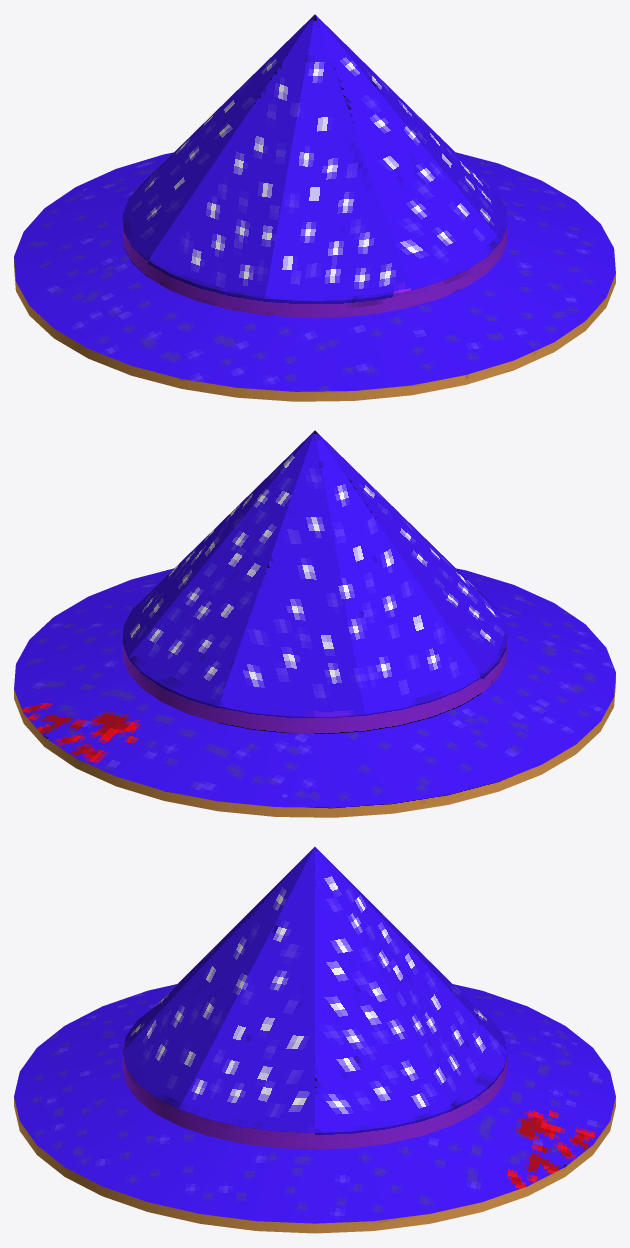
File: WizHat.glb
The picture shows the model from 3 angles, top to bottom: view 1: azimuth 30°, elevation 25°; view 2: azimuth 150°, elevation 25°; view 3: azimuth 270°, elevation 25°; orthographic projection.
Parts seen in each view (by area): view 1: WizHat-col; view 2: WizHat-col; view 3: WizHat-col.
Boxes of the visible parts, bbox=[...] form: WizHat-col: bbox=[14, 14, 615, 401]; WizHat-col: bbox=[14, 430, 615, 817]; WizHat-col: bbox=[14, 847, 615, 1233].
Size of the model in its own units: 2 by 0.9524 by 2.
1 material, 1 textured.
